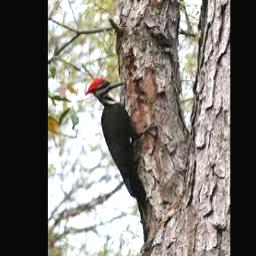Woodpecker: (85, 78, 158, 241)
